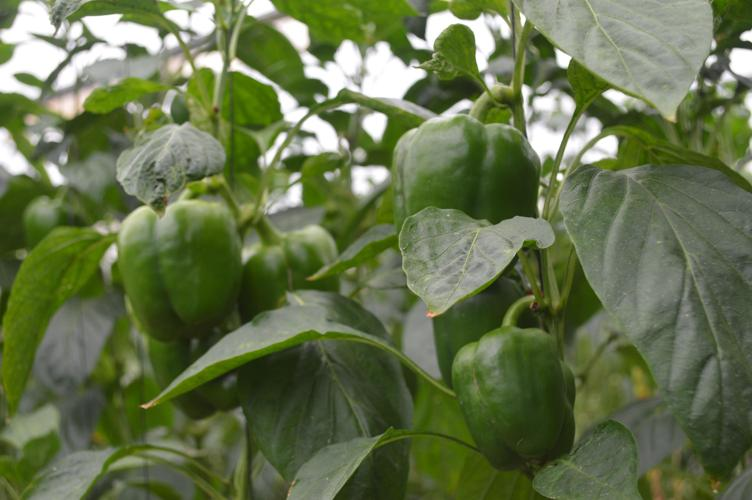BellPepper: (385, 113, 546, 227), (449, 326, 575, 462), (115, 202, 241, 335), (432, 276, 525, 374), (236, 223, 344, 307), (142, 331, 241, 411)
